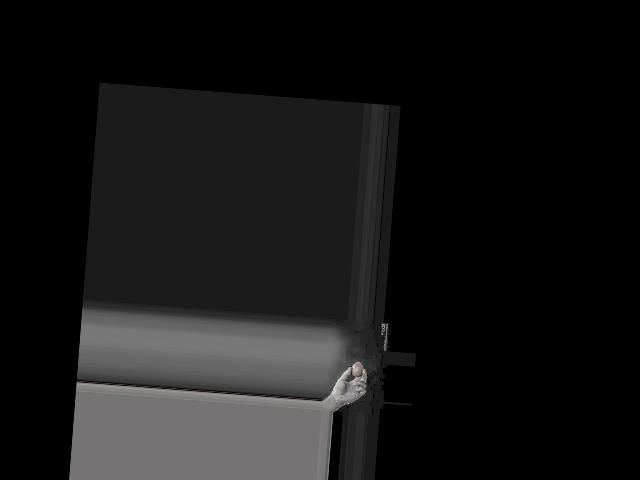egg: (351, 362, 363, 378)
